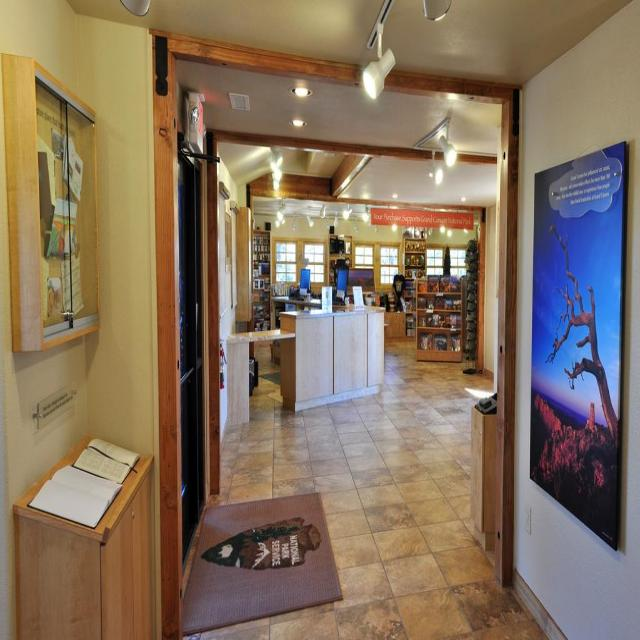table: (11, 428, 153, 639)
